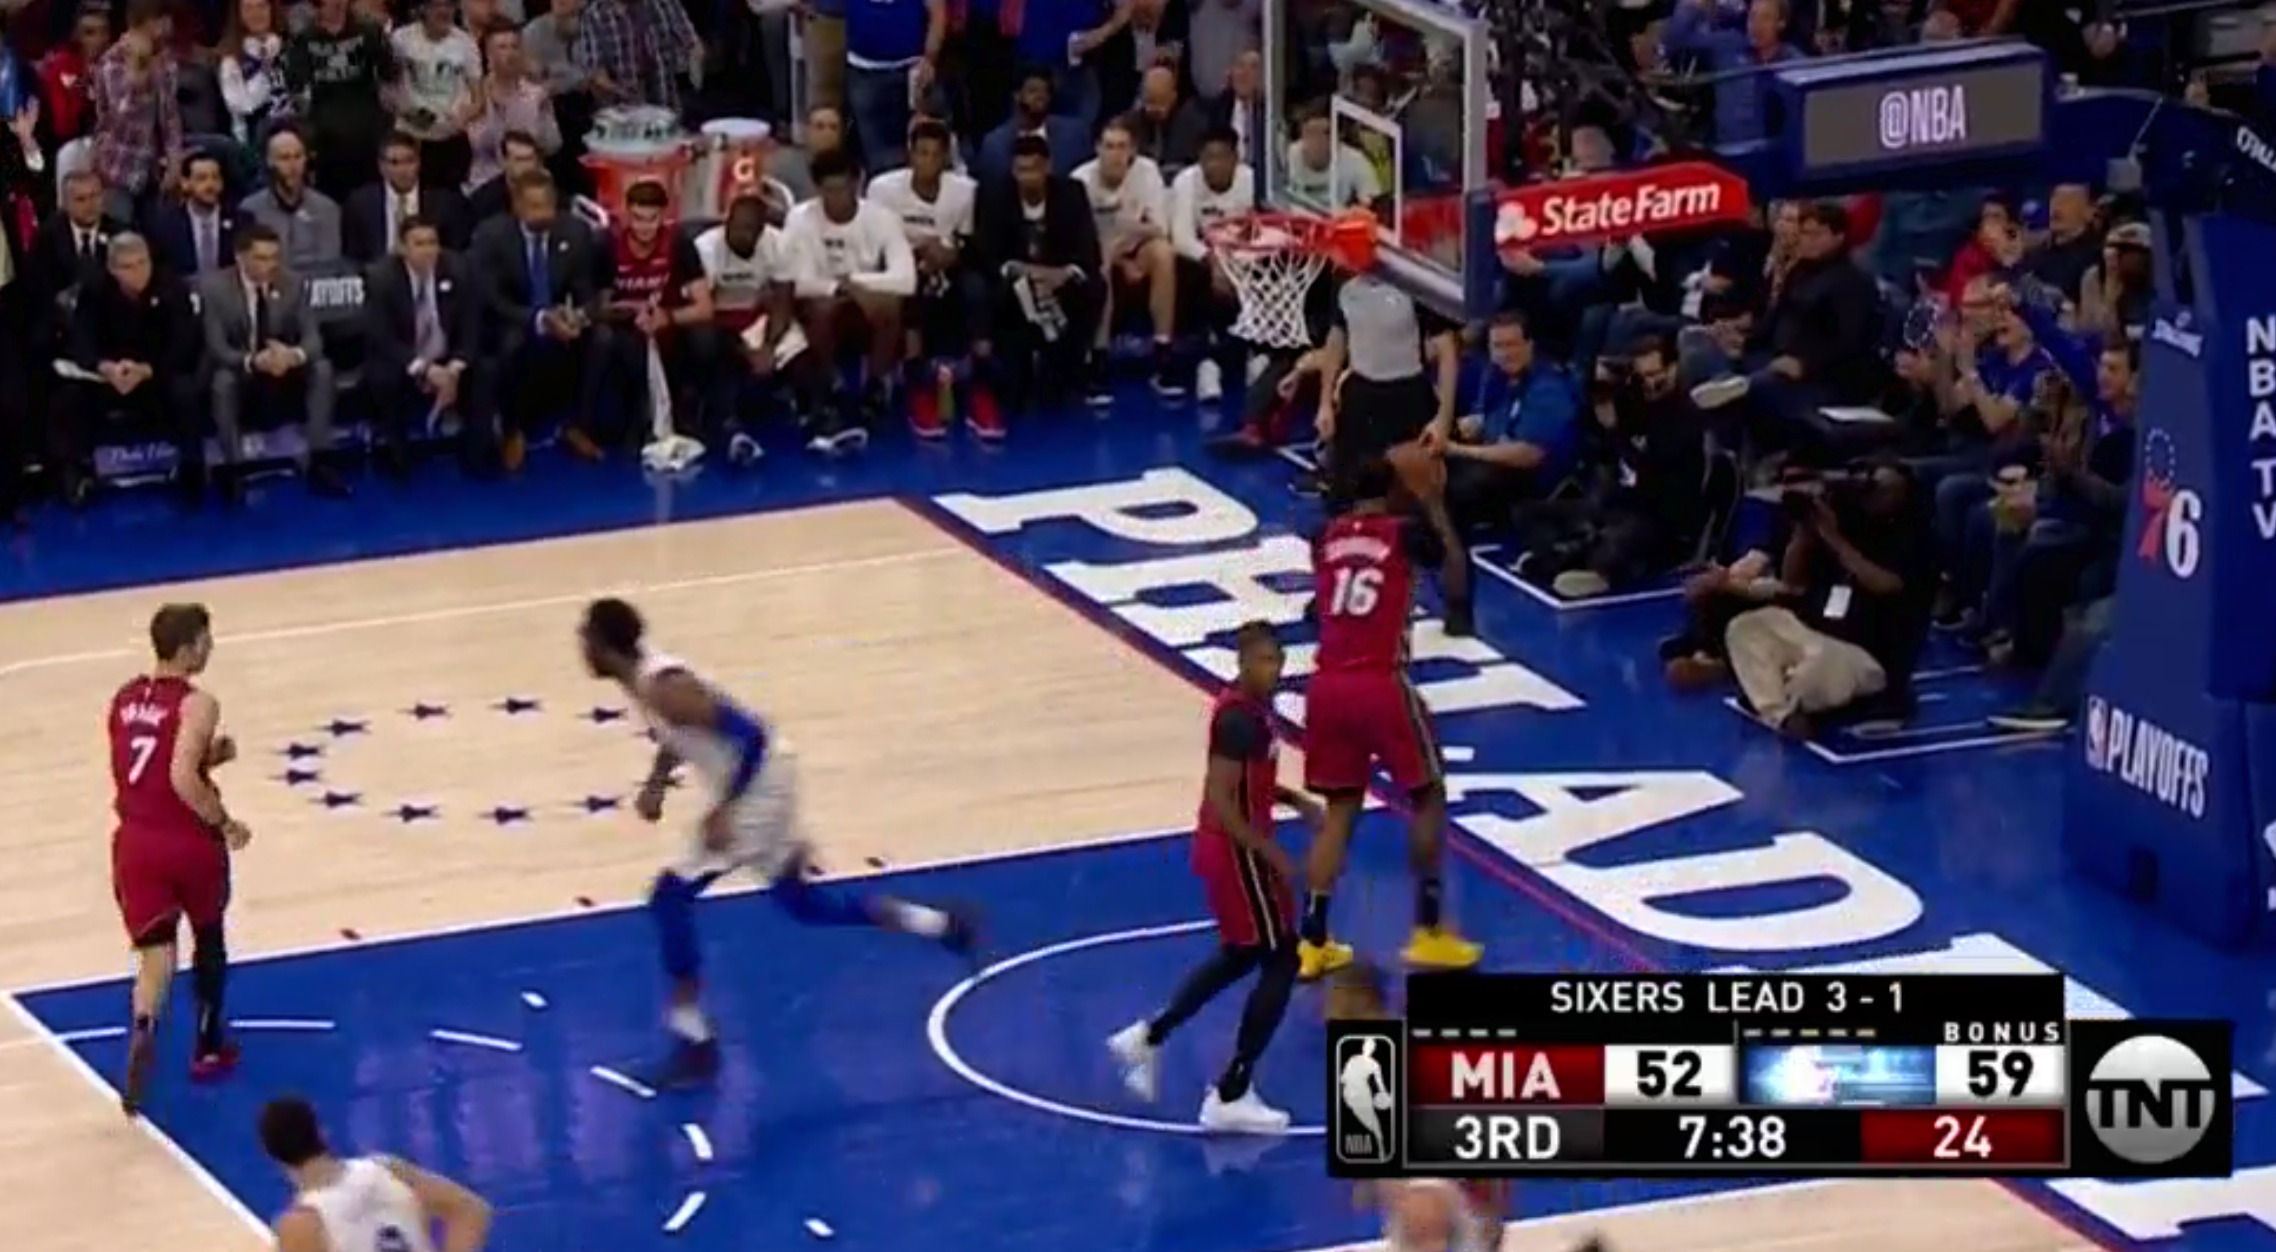player: (564, 581, 1007, 1065), (1301, 475, 1468, 988), (110, 593, 275, 1085), (1197, 588, 1329, 1160)
